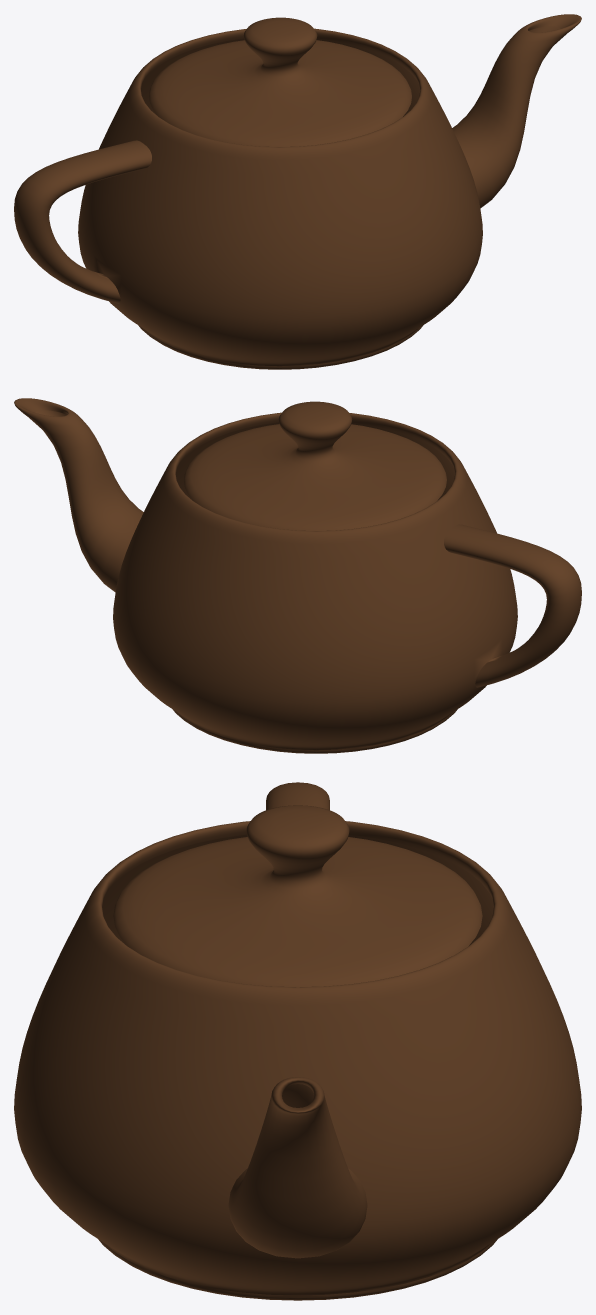
The model's file is teapot.dae.
3 renders of one model, top to bottom at view 1: azimuth 30°, elevation 25°; view 2: azimuth 150°, elevation 25°; view 3: azimuth 270°, elevation 25°, orthographic. The views are drawn at different scales.
Visible parts, largest first — view 1: Teapot; view 2: Teapot; view 3: Teapot.
Boxes of the visible parts, bbox=[...] form: Teapot: bbox=[14, 14, 581, 369]; Teapot: bbox=[14, 398, 581, 753]; Teapot: bbox=[14, 782, 581, 1300].
Bounding box in the file's own units: 64.34 × 40 × 31.5.
